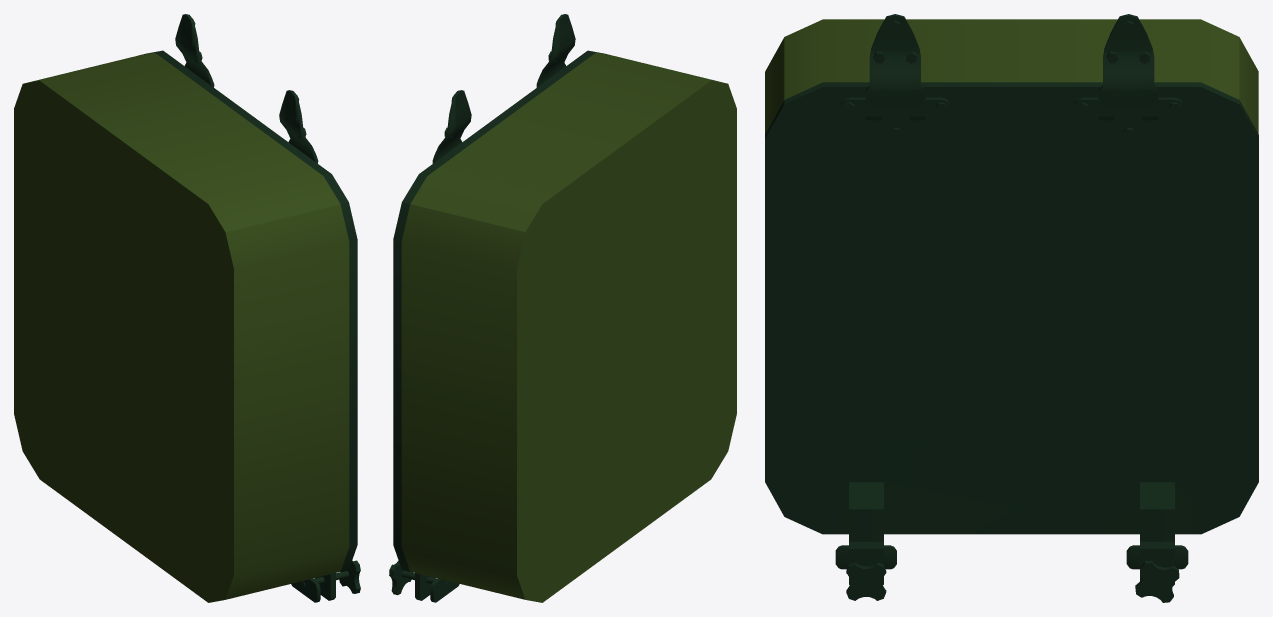
File: shield.FBX
3 renders of one model, left to right at view 1: azimuth 30°, elevation 25°; view 2: azimuth 150°, elevation 25°; view 3: azimuth 270°, elevation 25°, orthographic. The views are drawn at different scales.
Parts seen in each view (by area): view 1: Box264, Box265, Box268, Box267; view 2: Box264, Box265, Box267, Box268; view 3: Box265, Box264, Box267, Box268, Cylinder157, Cylinder156, Box266, Box269.
Boxes of the visible parts, x1,y1,x2,y2 form: Box264: (14,52,349,602); Box265: (138,50,357,600); Box268: (175,14,214,87); Box267: (279,90,318,163); Box264: (401,52,736,602); Box265: (393,50,610,600); Box267: (536,14,575,87); Box268: (432,90,471,163); Box265: (765,82,1258,586); Box264: (765,19,1258,134); Box267: (865,14,925,120); Box268: (1098,14,1158,120); Cylinder157: (1074,97,1183,142); Cylinder156: (840,97,949,142); Box266: (846,562,886,600); Box269: (1135,560,1179,602).
Size of the model in its own units: 191 by 561 by 447.
